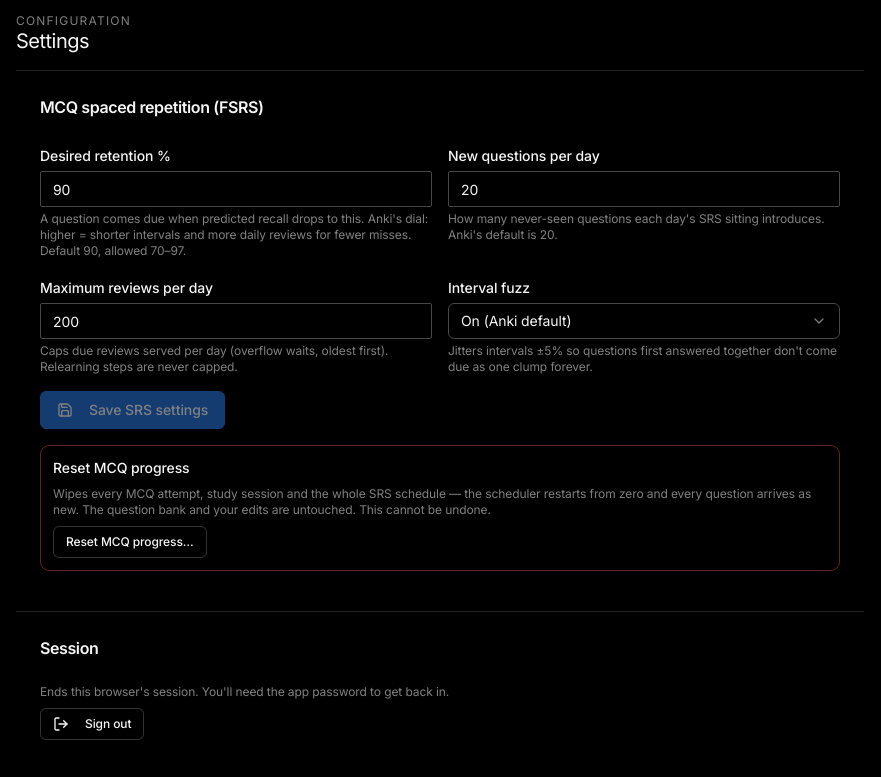
Test: Settings — an emptied numeric box is mid-edit, not a request to set zero › clearing desired retention withdraws the edit instead of posting a zero
Later steps or results of the test are not shown.
Step 1. Clear the number field with test id "input-srs-retention" → (236, 189), box [40, 171, 432, 207]
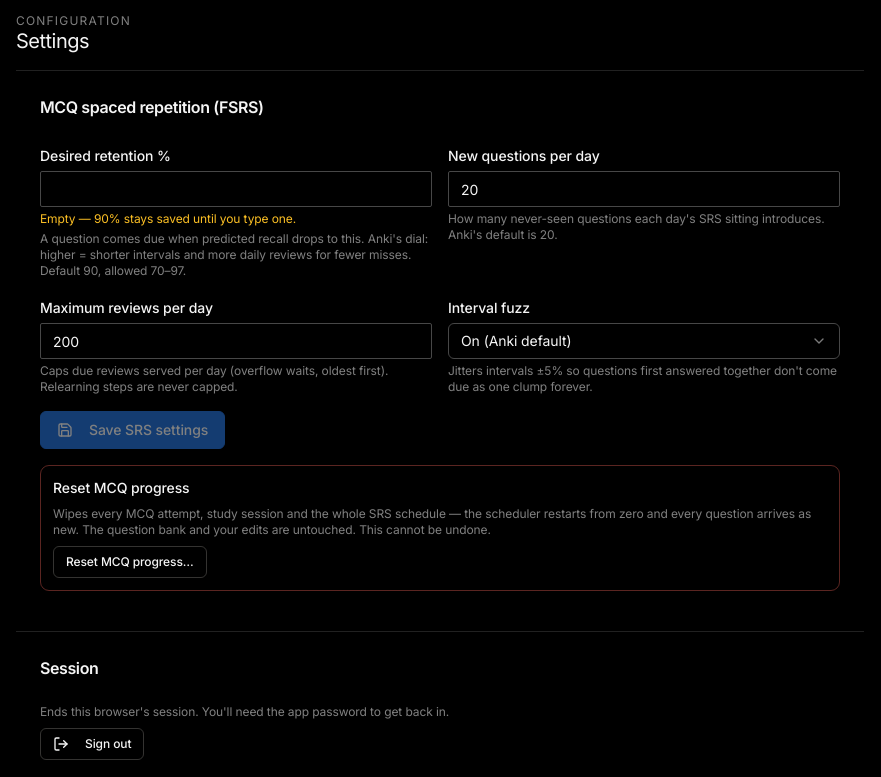
Check: the button with test id "button-save-srs" is disabled, box [40, 411, 225, 449]
Check: the text with test id "hint-empty-srsRetention" shows "90", box [94, 211, 109, 226]
